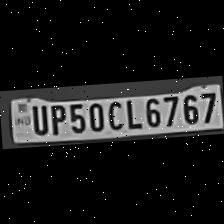0: (83, 99, 105, 132)
5: (64, 100, 86, 133)
6: (140, 94, 162, 127), (178, 90, 198, 124)
7: (159, 93, 179, 127), (198, 90, 218, 124)
C: (102, 97, 124, 130)
L: (121, 96, 141, 130)
P: (46, 101, 67, 135)
U: (28, 102, 49, 134)
